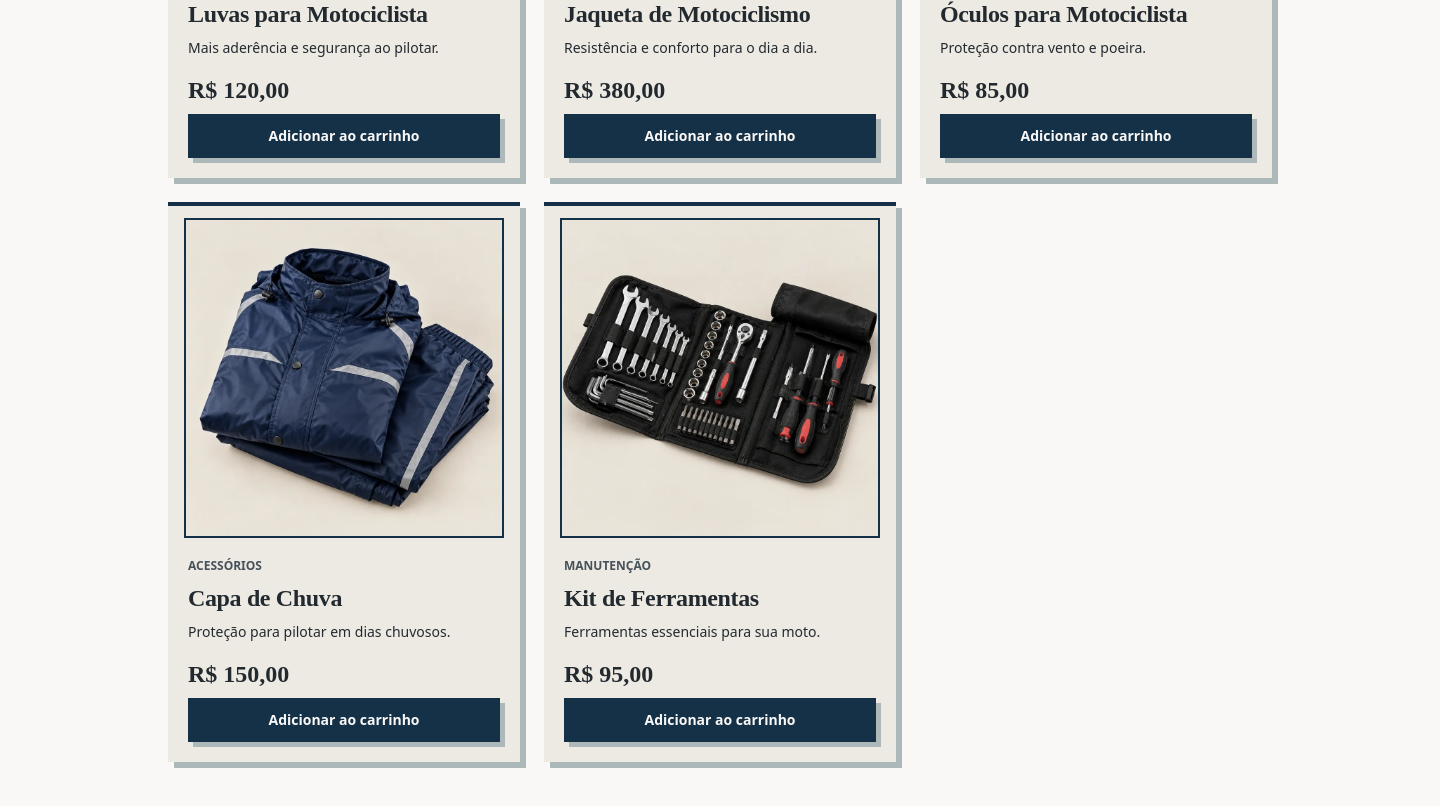
Test case: Armazenamento · pedido da boutique › se a gravação falhar, não confirma o pedido e mostra o aviso
The image size is (1440, 806).
(page scrolled)
Click the button with aria-label "Adicionar Capa de Chuva ao carrinho" at (344, 720), box top-left (188, 698), bottom-right (500, 742)
(page scrolled)
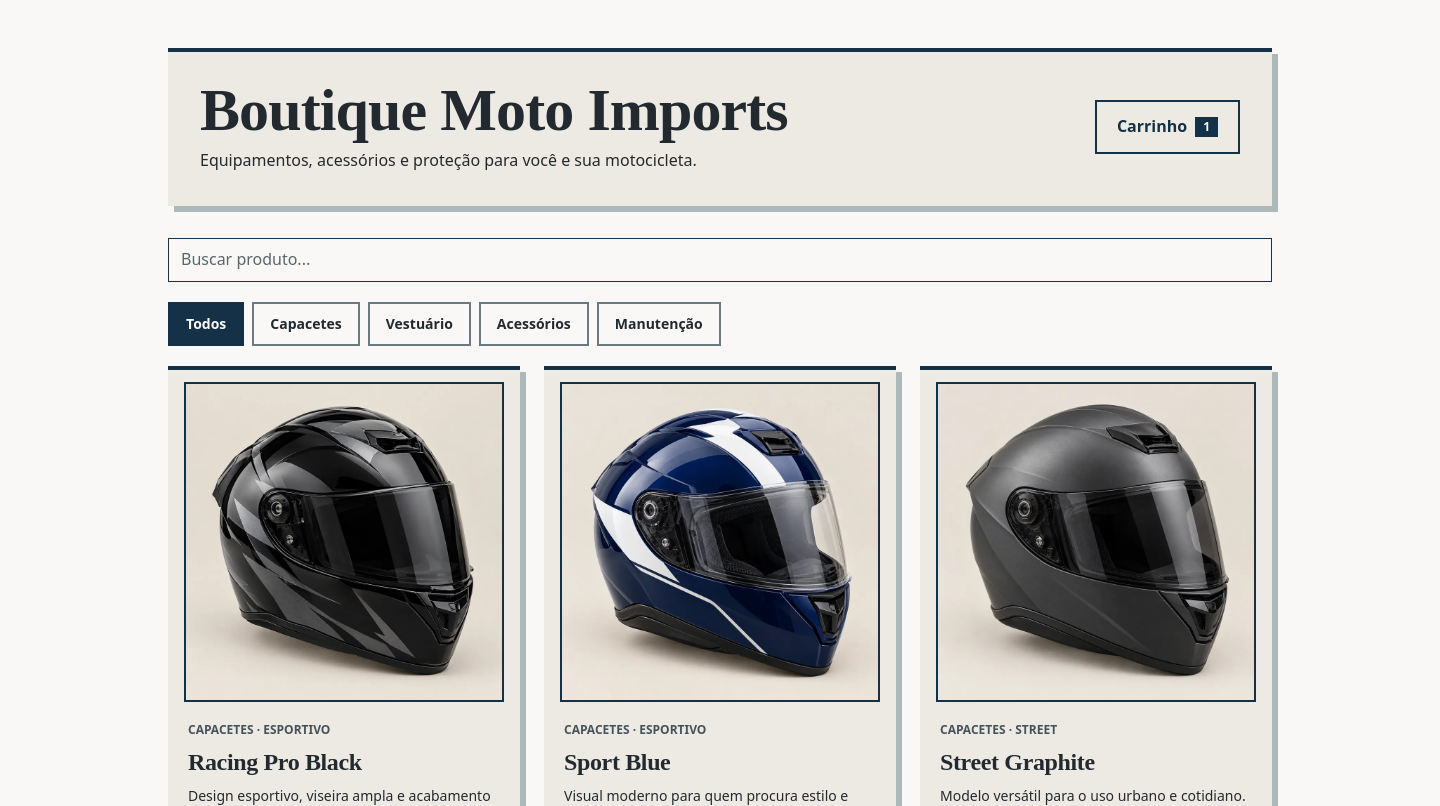
Click the button "Carrinho 1" at (1167, 127), box top-left (1095, 100), bottom-right (1240, 154)
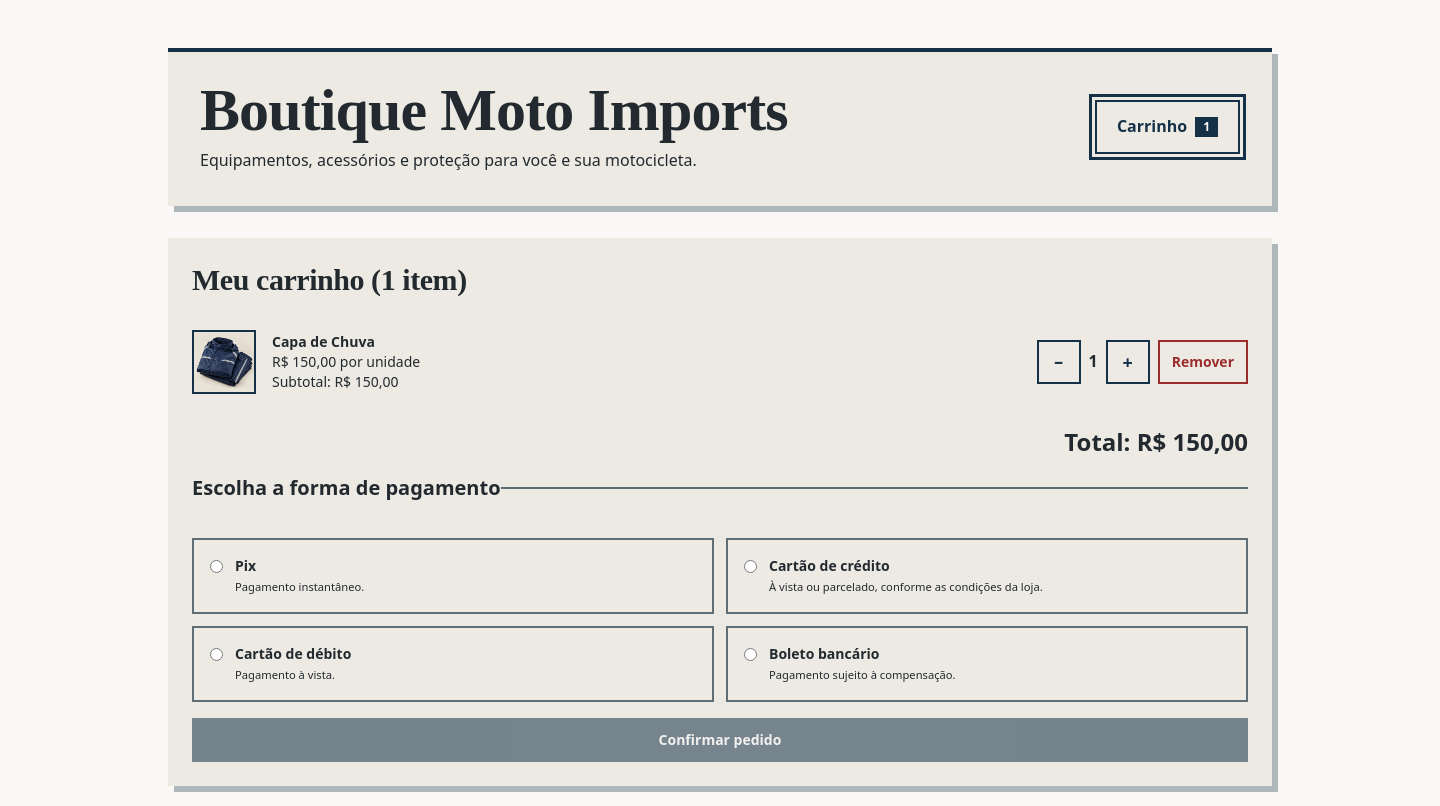
Click the radio button labelled "Pix Pagamento instantâneo." at (216, 566), box top-left (210, 560), bottom-right (223, 573)
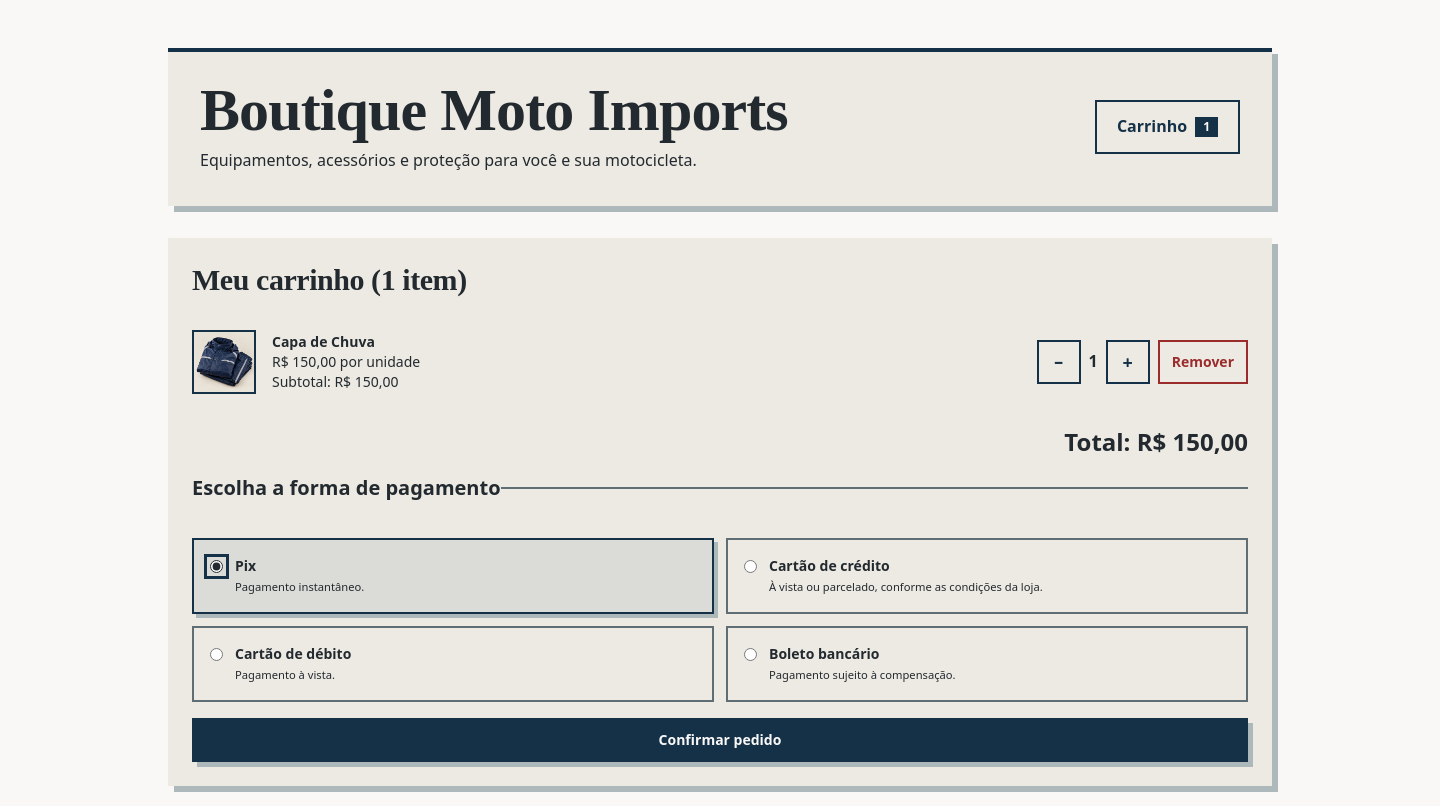
Click the button "Confirmar pedido" at (720, 740), box top-left (192, 718), bottom-right (1248, 762)
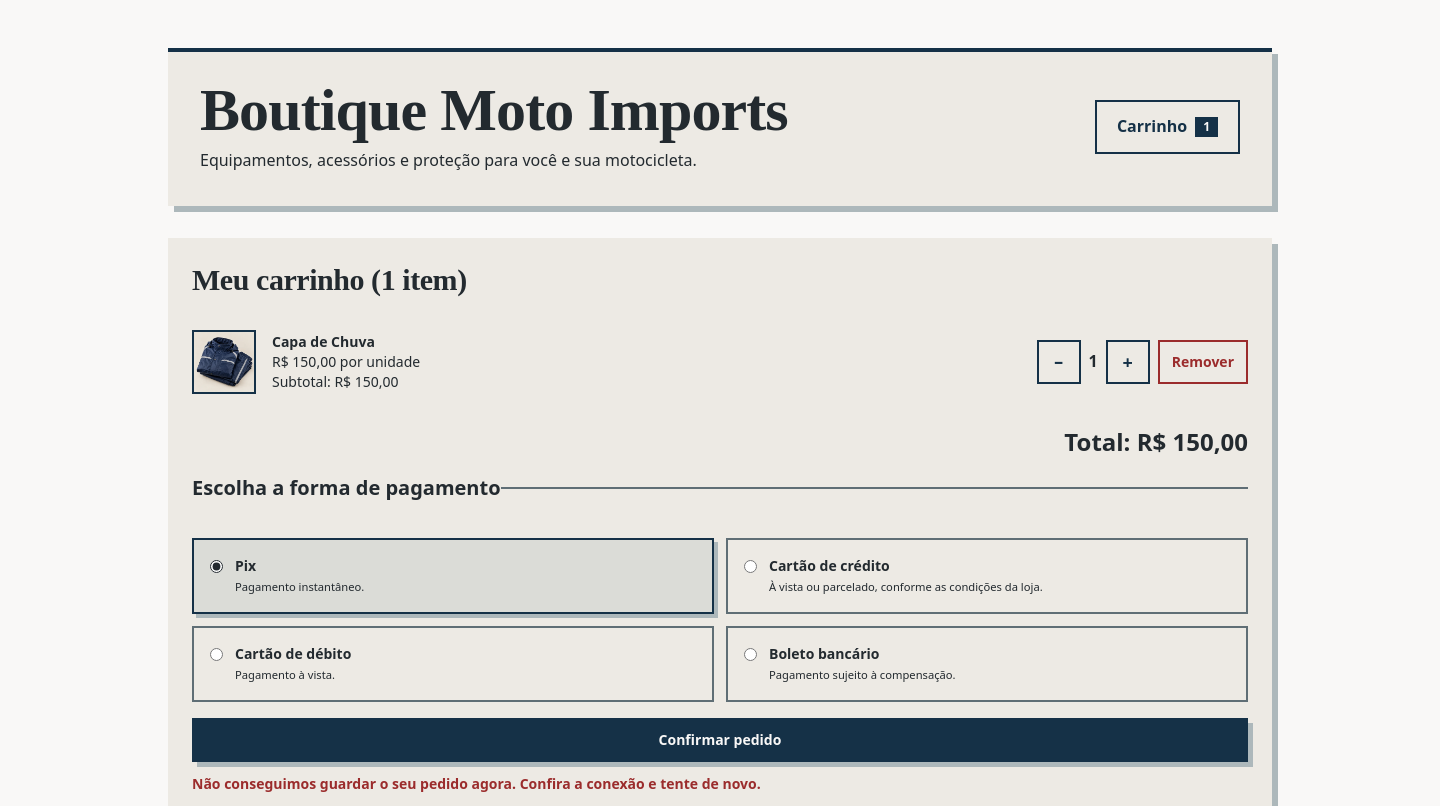
Expected: the text "Não conseguimos guardar o seu pedido agora. Confira a conexão e tente de novo." is shown, top-left (192, 774), bottom-right (761, 793)
